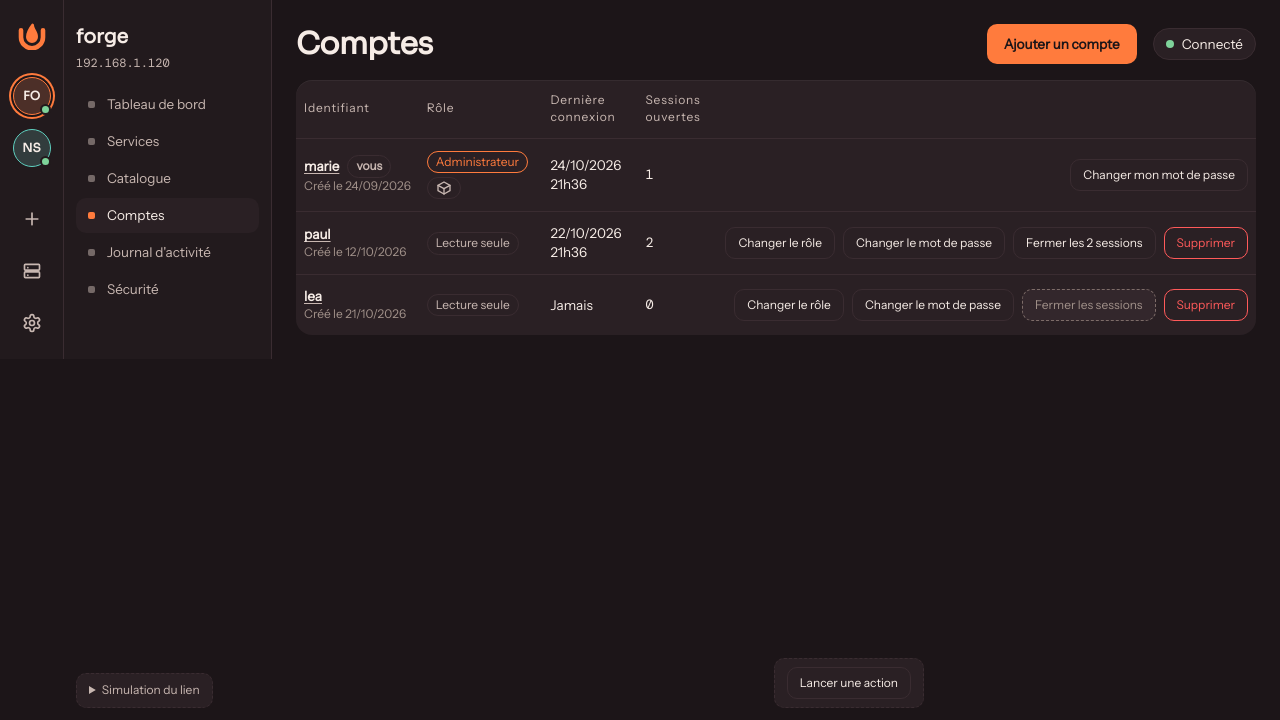
Test: le détail d'un compte › un compte sans le droit : « Non autorisée », l'aide et la commande --grant à copier
The width and height of the screenshot is (1280, 720).
Click the button with class "table__open" showing "paul" at (317, 235), box [304,225,331,244]
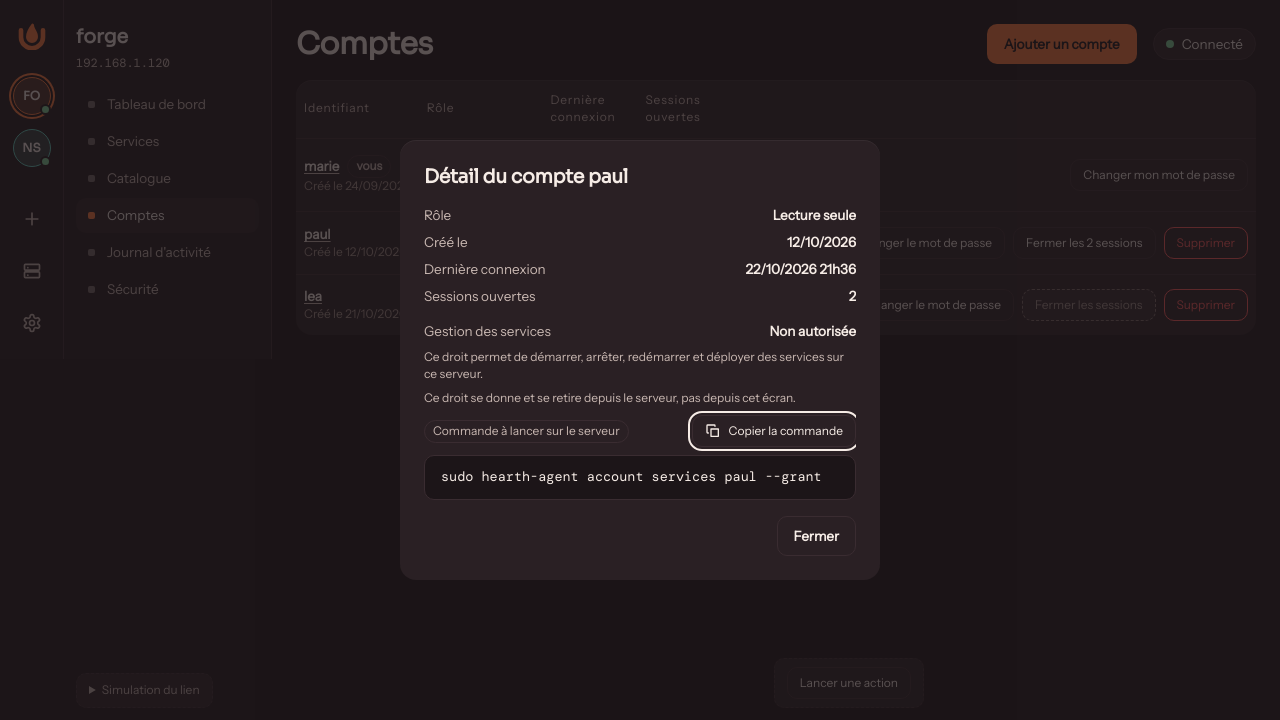
Expected: the text "Non autorisée" is shown, [769,322,856,341]
Expected: the dialog shows "Ce droit se donne et se retire depuis le serveur, pas depuis cet écran.", [424,390,796,406]
Expected: the text "sudo hearth-agent account services paul --grant" is shown, [424,455,856,500]
